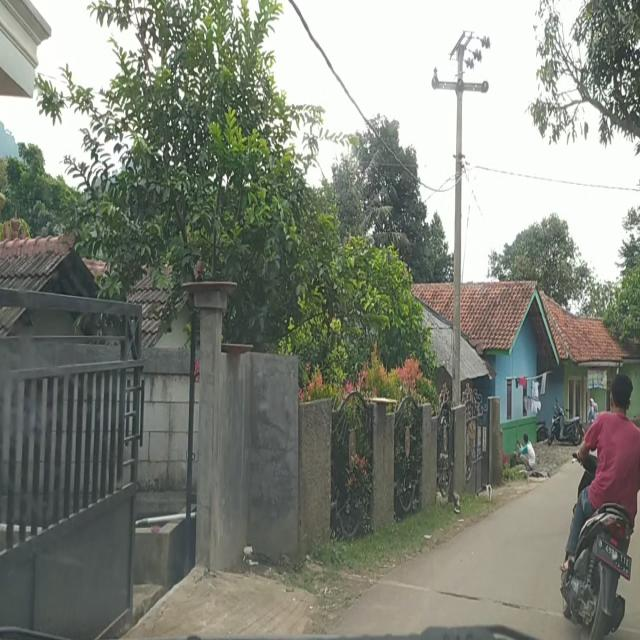Sewer Cover: (428, 577, 538, 611)
